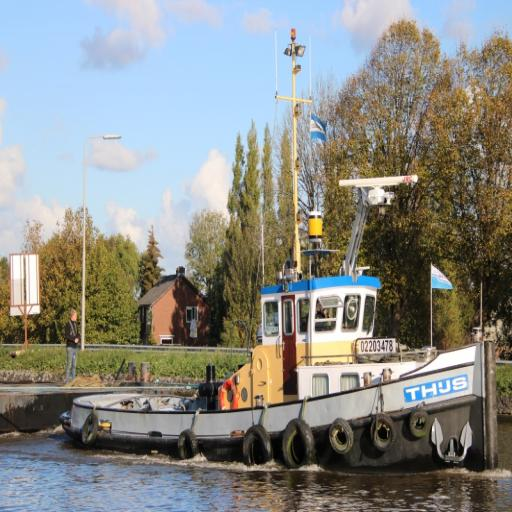tugboat: (57, 174, 503, 484)
